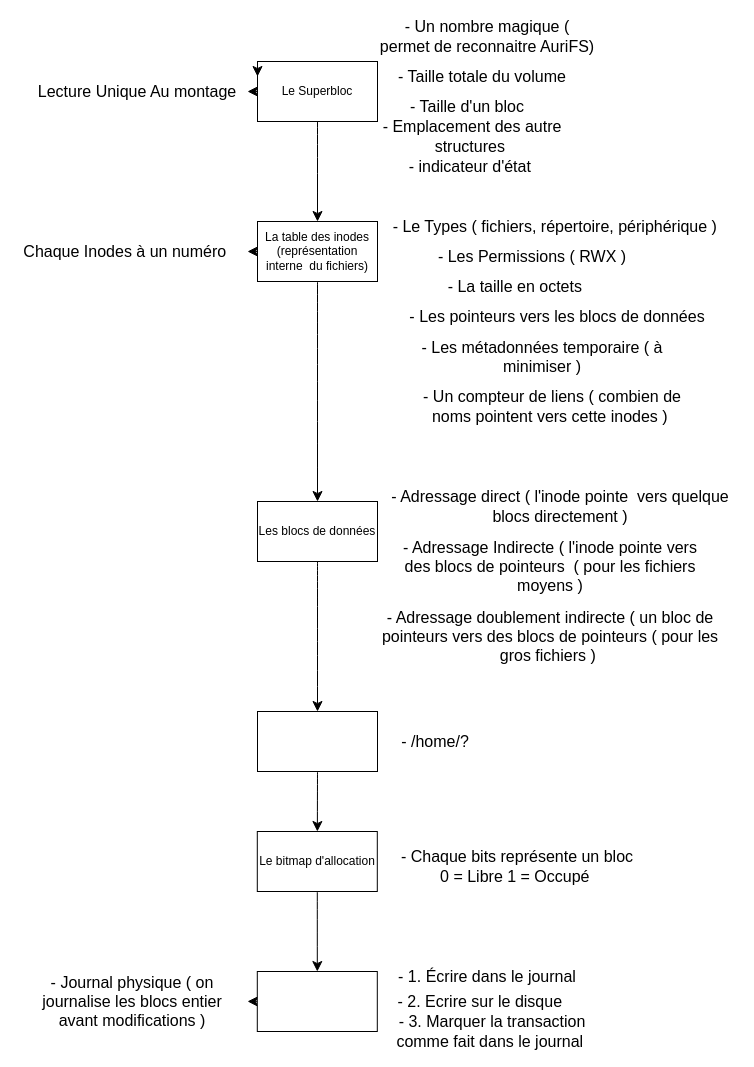
Some shapes in this 754 by 1067 pixel diagram are drawn without their labels. Here are the shapes that lost their labels. From the top down, the centre of each, then its label:
At point (317, 741): "Les répertoires".
At point (316, 1001): "Le journaling".
